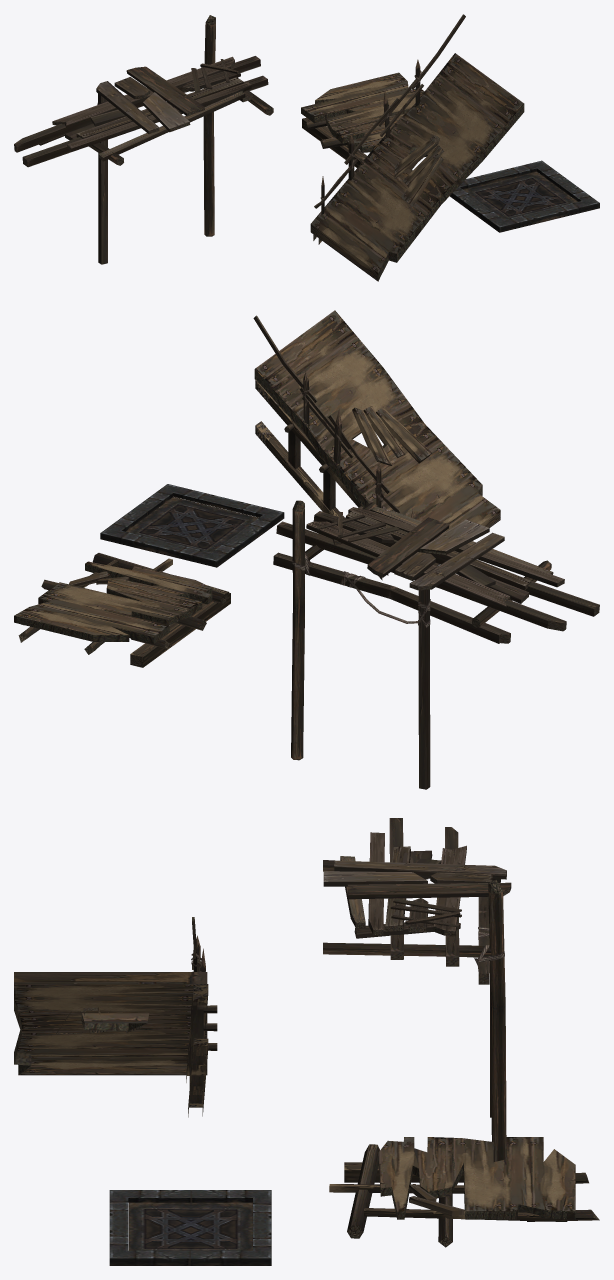
The model's file is 2_HS_MBQ_01.FBX.
3 renders of one model, top to bottom at view 1: azimuth 30°, elevation 25°; view 2: azimuth 150°, elevation 25°; view 3: azimuth 270°, elevation 25°, orthographic. The views are drawn at different scales.
Visible parts, largest first — view 1: 2_HS_MuBanQiao_02, 2_HS_MuBanQiao_01, 2_HS_MBQTFK_02, 2_HS_MuBanQiao_03, 2_HS_MBQFS_02; view 2: 2_HS_MuBanQiao_01, 2_HS_MuBanQiao_02, 2_HS_MuBanQiao_03, 2_HS_MBQTFK_02, 2_HS_MBQFS_02; view 3: 2_HS_MuBanQiao_02, 2_HS_MuBanQiao_01, 2_HS_MuBanQiao_03, 2_HS_MBQTFK_02.
Part boxes in pixels (bbox=[...]): 2_HS_MuBanQiao_02: bbox=[310, 53, 524, 281]; 2_HS_MuBanQiao_01: bbox=[14, 15, 273, 264]; 2_HS_MBQTFK_02: bbox=[450, 160, 599, 232]; 2_HS_MuBanQiao_03: bbox=[301, 72, 427, 167]; 2_HS_MBQFS_02: bbox=[314, 14, 465, 214]; 2_HS_MuBanQiao_01: bbox=[273, 500, 599, 789]; 2_HS_MuBanQiao_02: bbox=[254, 310, 500, 580]; 2_HS_MuBanQiao_03: bbox=[14, 553, 230, 667]; 2_HS_MBQTFK_02: bbox=[100, 484, 284, 567]; 2_HS_MBQFS_02: bbox=[253, 315, 414, 518]; 2_HS_MuBanQiao_02: bbox=[14, 972, 217, 1117]; 2_HS_MuBanQiao_01: bbox=[323, 818, 511, 1161]; 2_HS_MuBanQiao_03: bbox=[329, 1137, 599, 1247]; 2_HS_MBQTFK_02: bbox=[109, 1190, 271, 1265].
Bounding box in the file's own units: 1557 × 837 × 1196.
